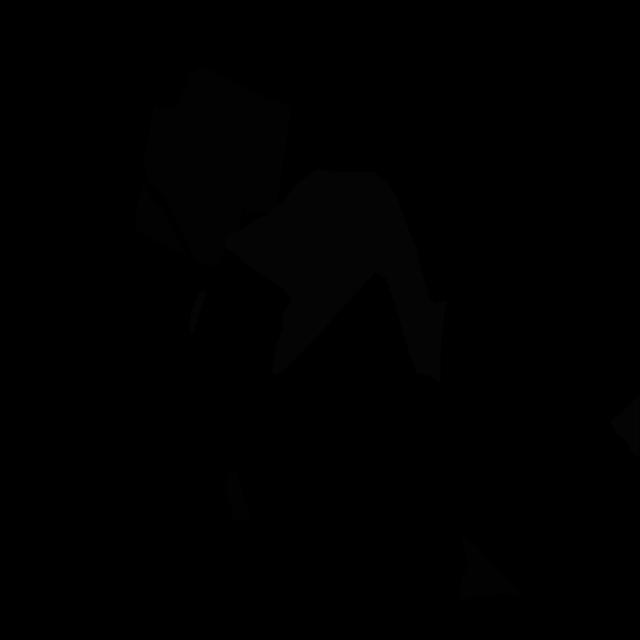cardboard: (143, 65, 292, 268), (458, 534, 522, 600), (135, 183, 187, 257), (223, 466, 251, 521)
soft_plastic: (225, 169, 448, 383), (610, 394, 640, 458), (188, 291, 207, 337)
